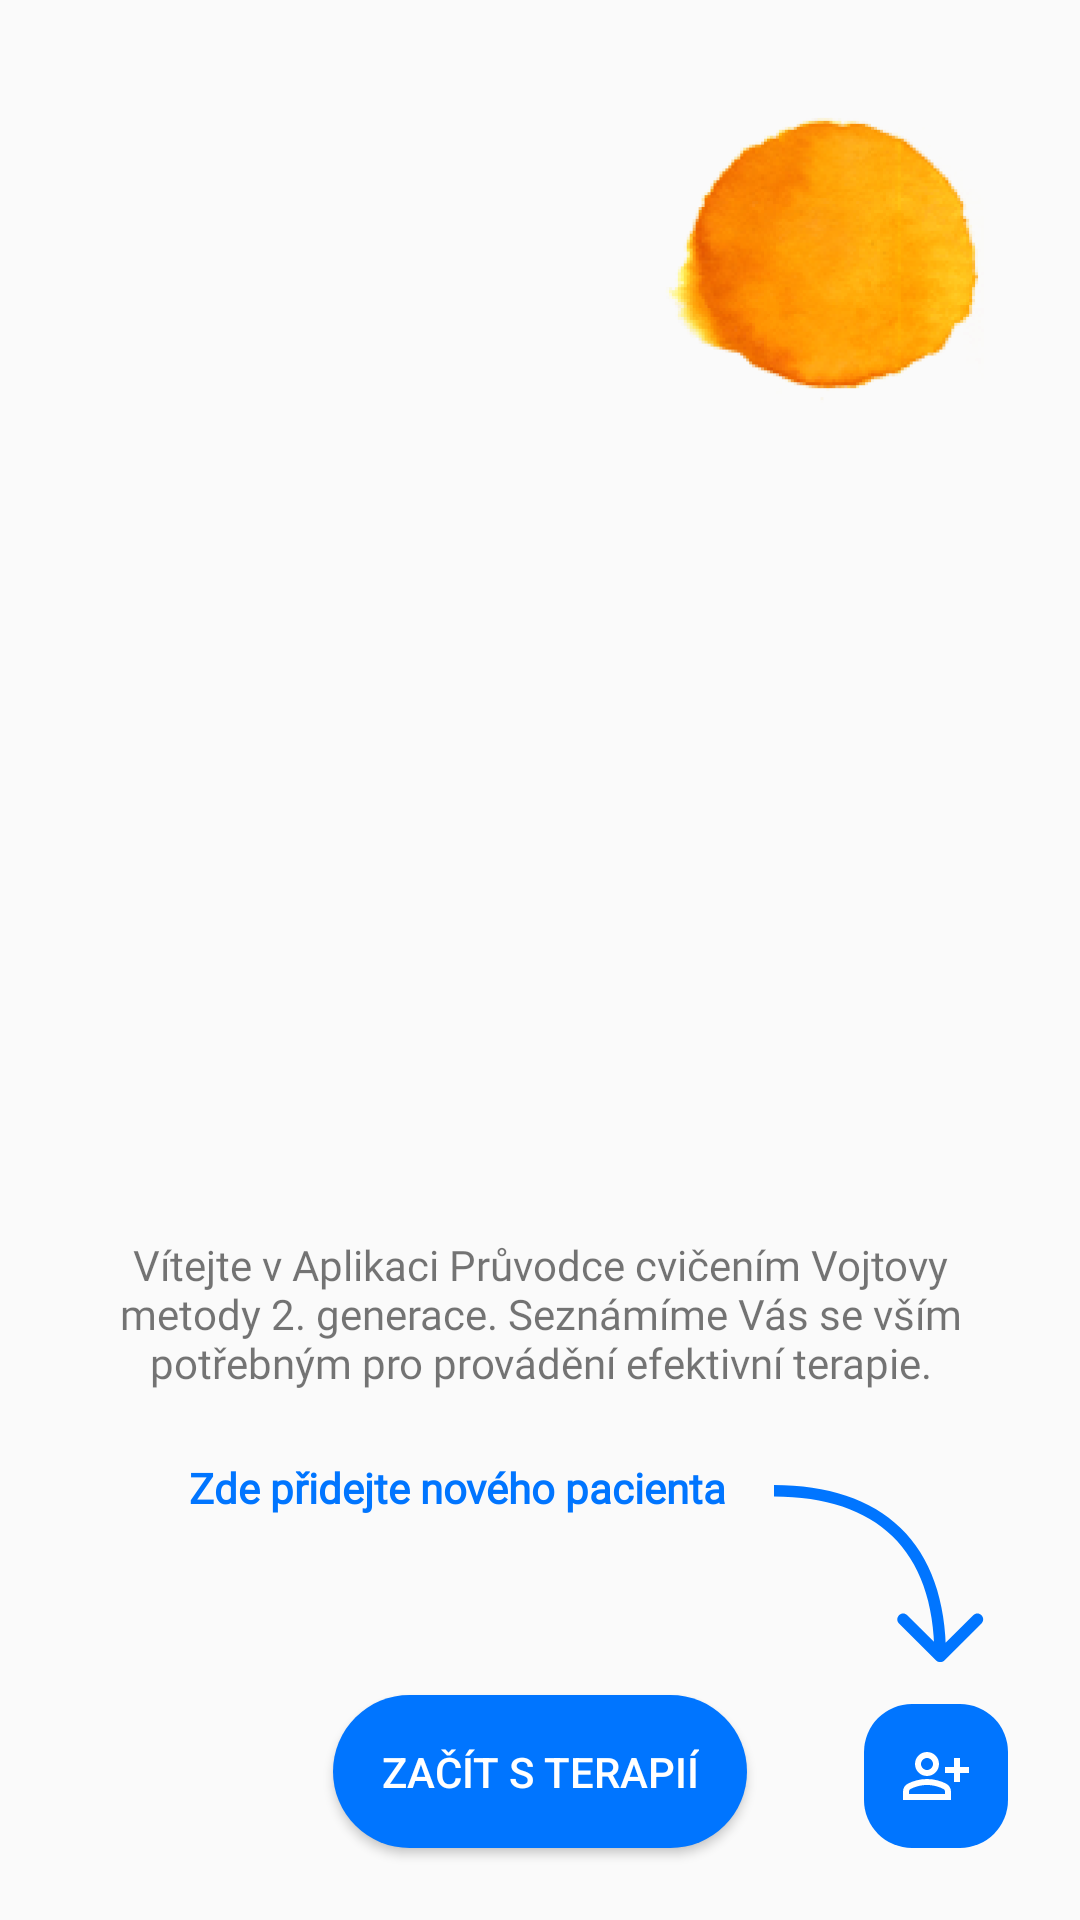

Icon bounding boxes for this 1080x1920 phone screenshot, format (x1, y1, x2, y2):
ball: (669, 118, 978, 389)
person add: (864, 1704, 1008, 1848)
sipka dolu: (774, 1485, 984, 1662)
